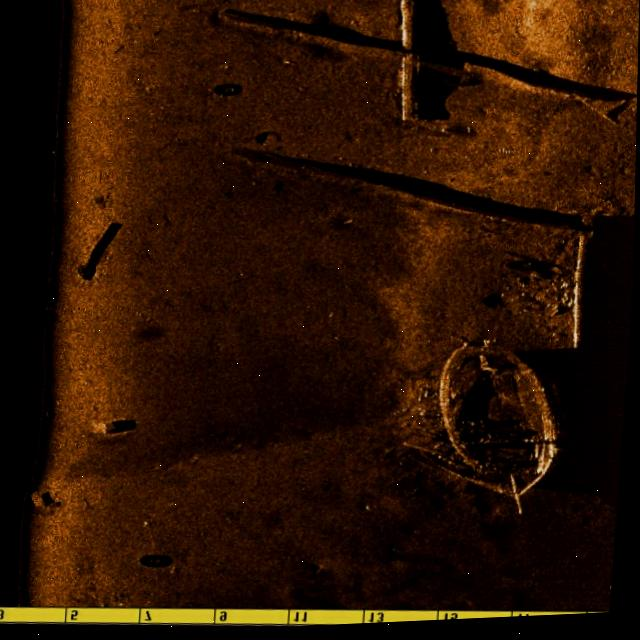shipwreck: (424, 339, 583, 531), (519, 225, 611, 347)
